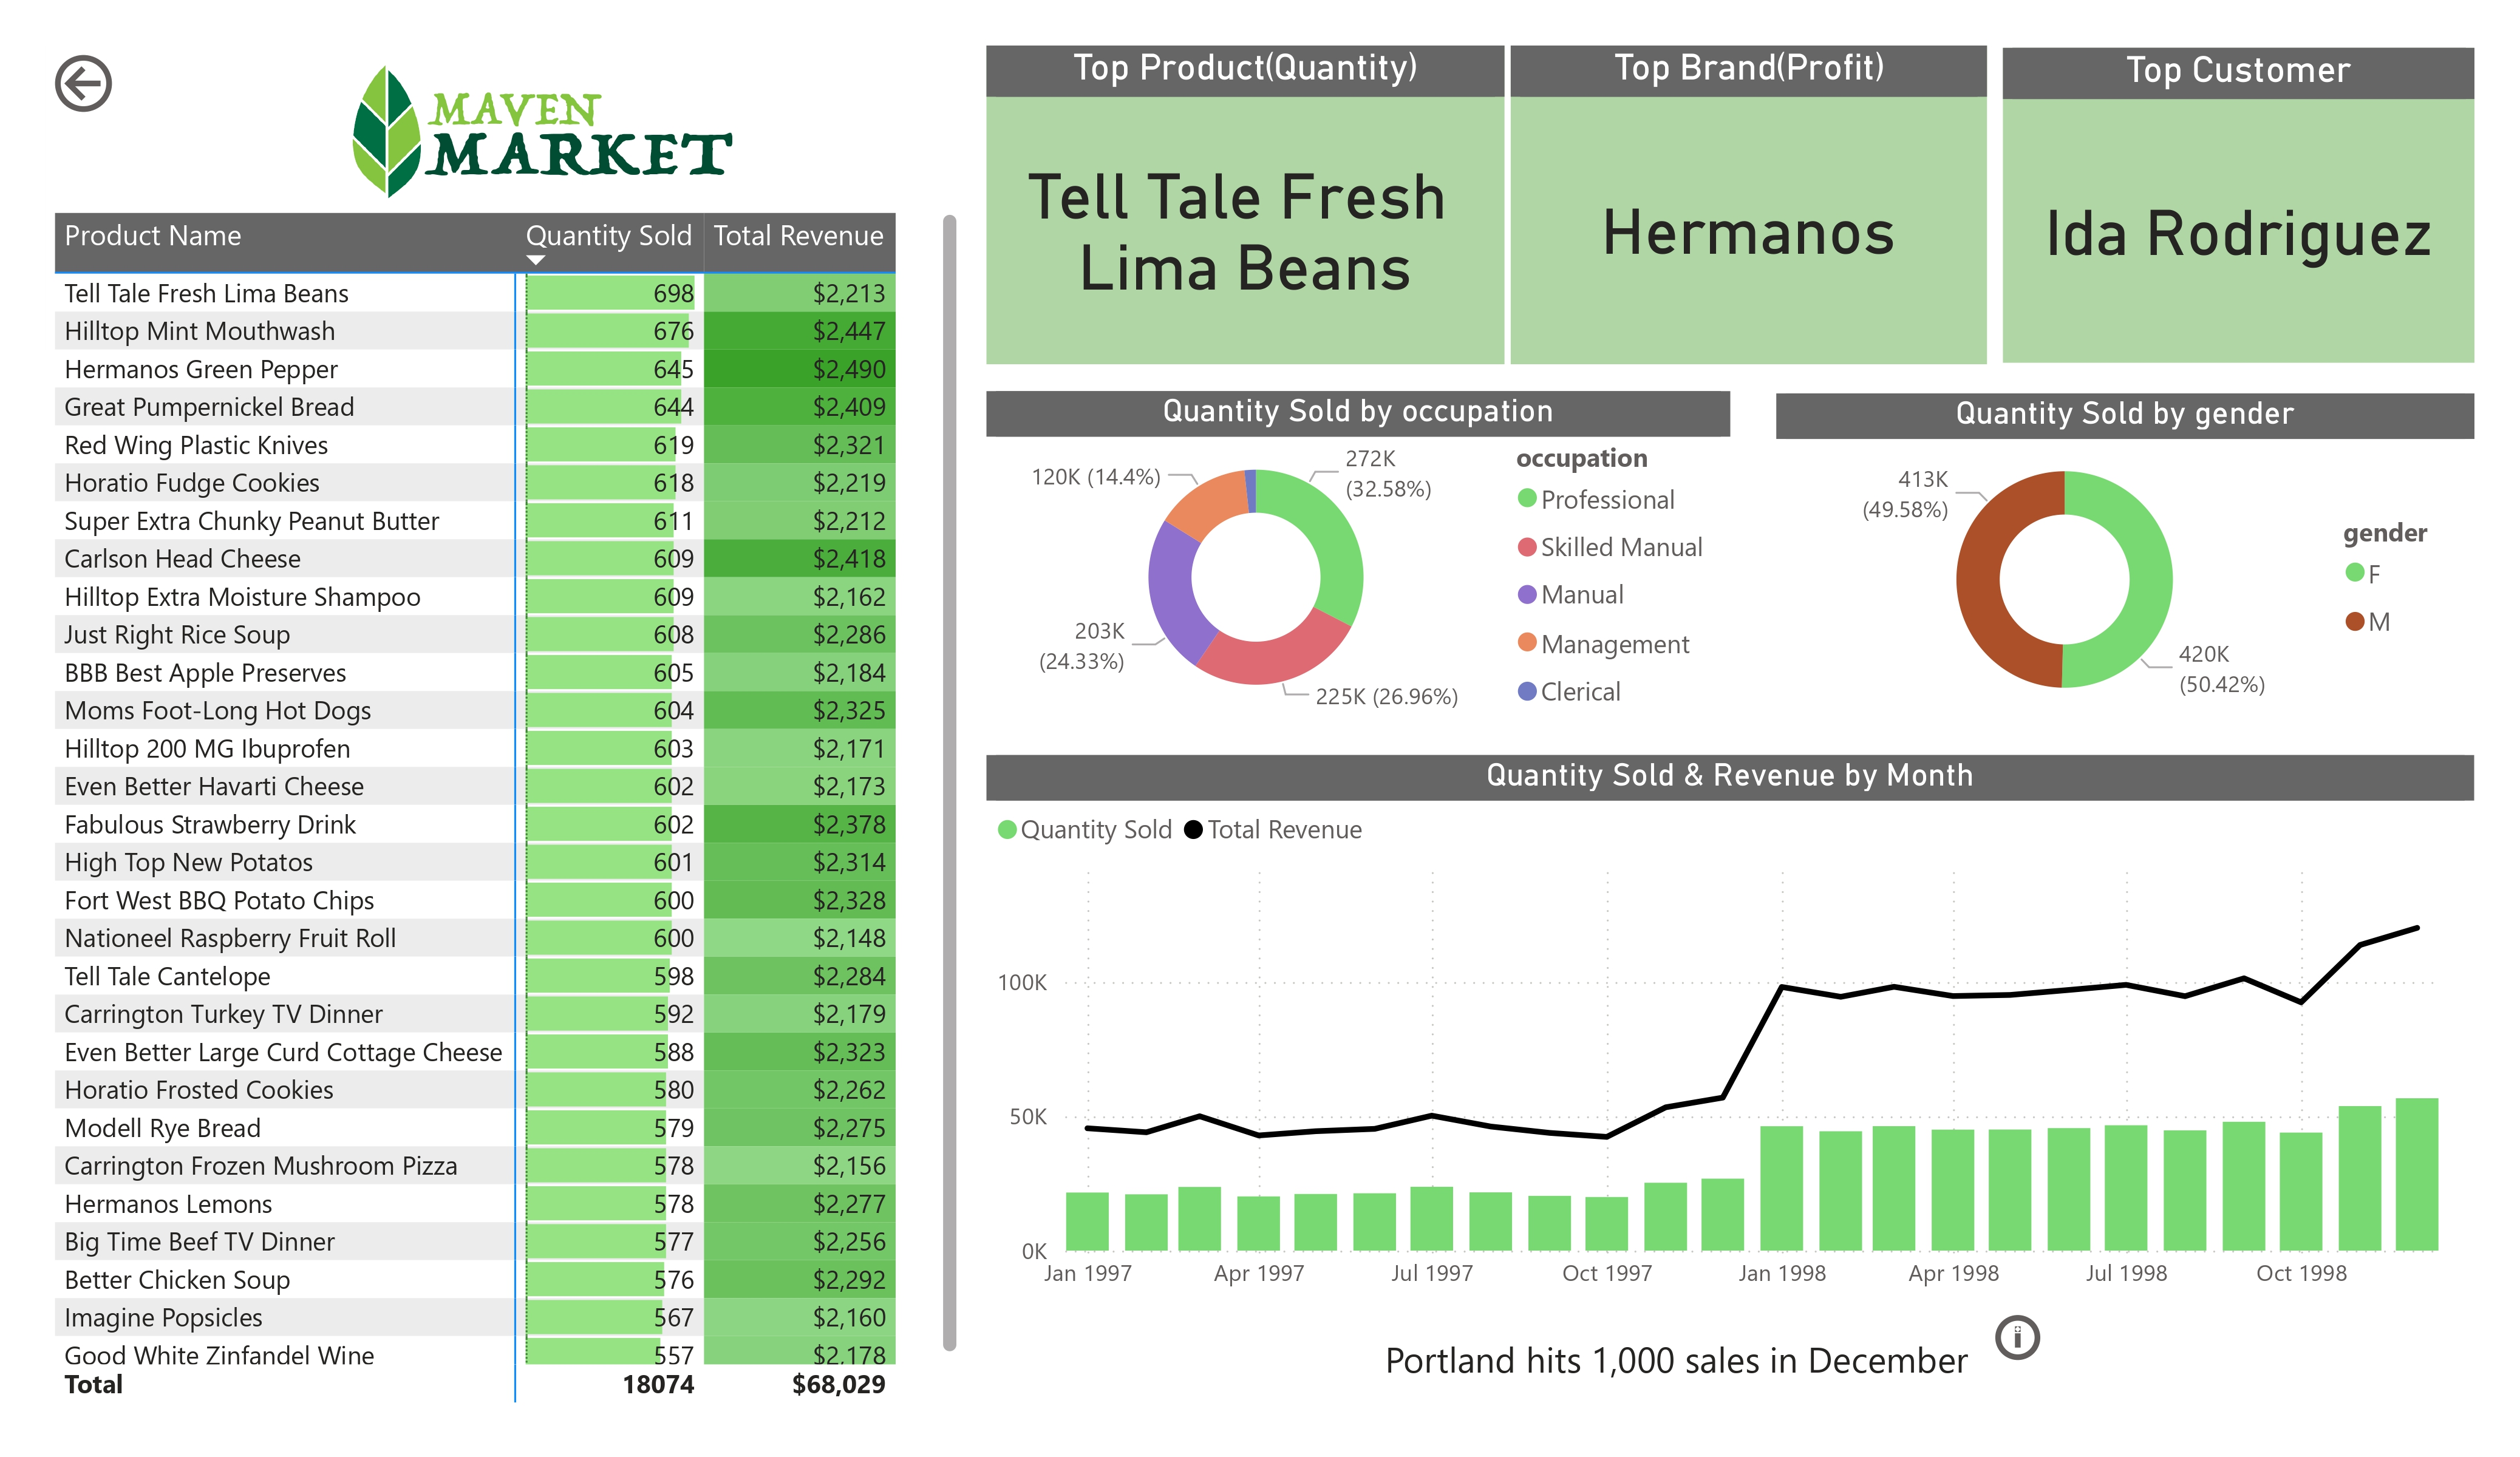

What the dashboard file says about the page in this screenshot:
{"tool":"powerbi","page":{"name":"Notes","canvas":[1280,720],"ordinal":1},"visuals":[{"type":"textbox","box":[656.3,674.4,406.6,45.8],"z":0},{"type":"actionButton","box":[1023.1,664.7,97.7,32.6],"z":1000},{"type":"card","title":"Top Product(Quantity)","fields":{"Values":["Products.product_name"]},"box":[495.8,0,272.7,167.7],"z":2000},{"type":"card","title":"Top Brand(Profit)","fields":{"Values":["Products.Product Brand"]},"box":[772.1,0,250.9,167.7],"z":3000},{"type":"actionButton","box":[0,0,100,40],"z":4000},{"type":"pivotTable","fields":{"Values":["Transaction_Data.Quantity Sold","Transaction_Data.Total Revenue"],"Rows":["Products.Product Name"]},"box":[0,83.7,485.8,636.7],"z":5000},{"type":"image","box":[0,0,522.4,90.5],"z":6000},{"type":"lineClusteredColumnComboChart","title":"Quantity Sold & Revenue by Month","fields":{"Y":["Transaction_Data.Quantity Sold"],"Y2":["Transaction_Data.Total Revenue"],"Category":["Calendar.Start of Month"]},"box":[495.8,374,784.2,290.8],"z":7000},{"type":"donutChart","fields":{"Category":["Customers.occupation"],"Y":["Transaction_Data.Quantity Sold"]},"box":[495.8,182.2,392.1,177.3],"z":8000},{"type":"donutChart","fields":{"Y":["Transaction_Data.Quantity Sold"],"Category":["Customers.gender"]},"box":[912.1,183.4,368,177.3],"z":9000},{"type":"card","title":"Top Customer","fields":{"Values":["Customers.FullName"]},"box":[1031.5,1.2,248.5,166.5],"z":10000}]}

Visuals, with their boxes on the page's 1280x720 design canvas (x1, y1, x2, y2). These are canvas units, not pixel positions in the 2520x1457 screenshot, which may show the page scaled, cropped or inside an application window:
textbox: x1=656 y1=674 x2=1063 y2=720
actionButton: x1=1023 y1=665 x2=1121 y2=697
"Top Product(Quantity)" card: x1=496 y1=0 x2=768 y2=168
"Top Brand(Profit)" card: x1=772 y1=0 x2=1023 y2=168
actionButton: x1=0 y1=0 x2=100 y2=40
pivotTable - Transaction_Data.Quantity Sold x Transaction_Data.Total Revenue: x1=0 y1=84 x2=486 y2=720
image: x1=0 y1=0 x2=522 y2=90
"Quantity Sold & Revenue by Month" lineClusteredColumnComboChart: x1=496 y1=374 x2=1280 y2=665
donutChart - Customers.occupation x Transaction_Data.Quantity Sold: x1=496 y1=182 x2=888 y2=360
donutChart - Transaction_Data.Quantity Sold x Customers.gender: x1=912 y1=183 x2=1280 y2=361
"Top Customer" card: x1=1032 y1=1 x2=1280 y2=168
